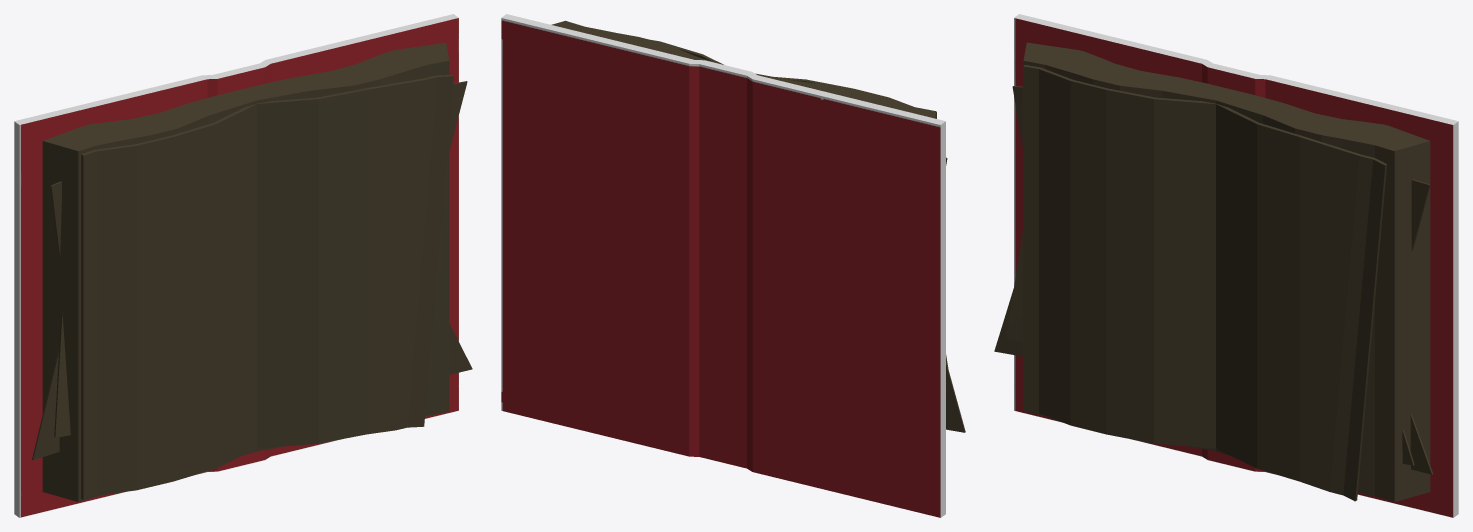
Rendered from enemy.obj.
The picture shows the model from 3 angles, left to right: view 1: azimuth 30°, elevation 25°; view 2: azimuth 150°, elevation 25°; view 3: azimuth 330°, elevation 25°; orthographic projection.
Visible parts, largest first — view 1: Book1_Open_Cube.106; view 2: Book1_Open_Cube.106; view 3: Book1_Open_Cube.106.
Part boxes in pixels (x1=…): Book1_Open_Cube.106: x1=14, y1=14, x2=472, y2=517; Book1_Open_Cube.106: x1=501, y1=14, x2=965, y2=517; Book1_Open_Cube.106: x1=994, y1=14, x2=1458, y2=517.
Bounding box in the file's own units: 8.73 × 7.4 × 1.26.
2 materials, 1 textured.
